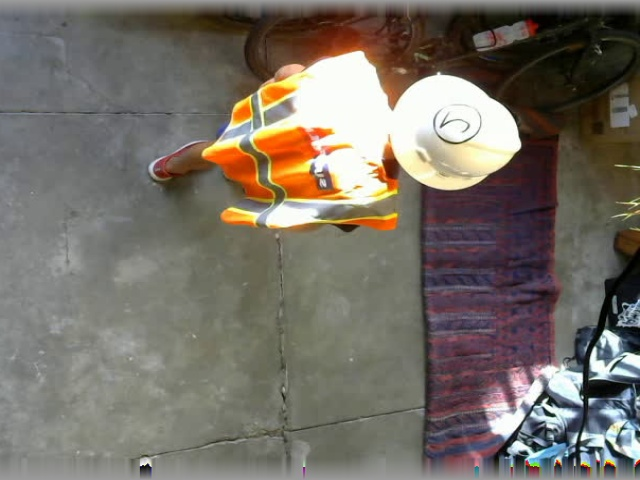two: (434, 101, 482, 143)
